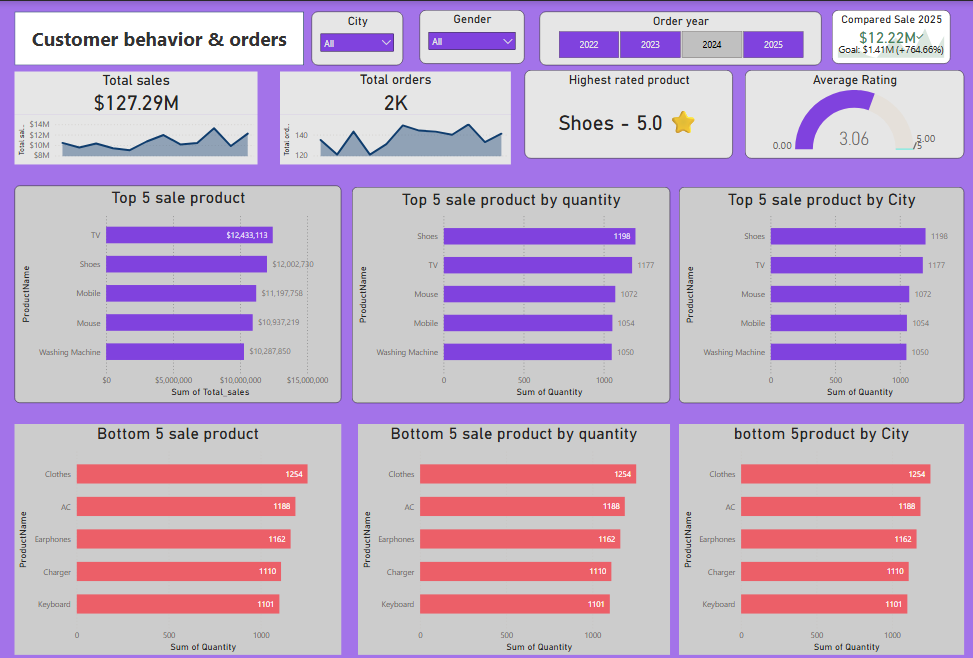

This screenshot's page, from the dashboard's own definition file:
{"tool":"powerbi","page":{"name":"Page 1","canvas":[1280,720],"ordinal":0},"visuals":[{"type":"card","title":"Total sales","fields":{"Values":["orderdetails.Total sales"]},"box":[24.6,141.7,317.5,64.3],"z":0},{"type":"card","title":"Total orders","fields":{"Values":["orderdetails.Total orders"]},"box":[360.9,141.7,279.7,64.3],"z":1000},{"type":"textbox","box":[24.6,0,430.9,109.6],"z":3000},{"type":"barChart","title":"Top 5 sales by ProductName","fields":{"Category":["orderdetails.ProductName"],"Y":["orderdetails.Total sales"]},"box":[963.8,319.4,294.8,381.7],"z":4000},{"type":"donutChart","fields":{"Y":["Sum(orders.OrderAmount)"],"Category":["customers.Gender"]},"box":[355.3,319.4,255.1,381.7],"z":5000},{"type":"slicer","title":"City","fields":{"Values":["customers.City"]},"box":[470.6,13.2,139.8,85],"z":6000},{"type":"slicer","title":"Order year","fields":{"Values":["orders.ORDER_YEAR"]},"box":[791.8,17,275.9,81.3],"z":7000},{"type":"kpi","title":"compared Sale 2025 ","fields":{"Indicator":["orders.sales_2024"],"Goal":["orders.sales_2025"],"TrendLine":["orders.order_month"]},"box":[1077.2,15.1,202.2,83.2],"z":9000},{"type":"areaChart","fields":{"Y":["orderdetails.Total sales"],"Category":["orders.OrderDate.Variation.Date Hierarchy.Month"]},"box":[24.6,206,317.5,98.3],"z":10000},{"type":"lineChart","fields":{"Category":["orders.OrderDate.Variation.Date Hierarchy.Month"],"Y":["orderdetails.Total orders"]},"box":[360.9,202.2,279.7,92.6],"z":11000},{"type":"gauge","title":"Average Rating","fields":{"Y":["rating.Average Rating"],"TargetValue":["rating.rating target"],"MaxValue":["rating.rating max"]},"box":[937.3,145.5,321.3,153.1],"z":12000},{"type":"card","title":"Highest rated product","fields":{"Values":["rating.Highest Rated Product Display"]},"box":[678.4,141.7,224.9,153.1],"z":13000},{"type":"pieChart","fields":{"Category":["orderdetails.ProductName"],"Y":["Sum(orderdetails.Total_sales)"]},"box":[625.5,321.3,332.6,379.8],"z":13001},{"type":"columnChart","fields":{"Category":["orders.ORDER_YEAR"],"Y":["Sum(orderdetails.Quantity)"]},"box":[11.4,322.1,326.9,379],"z":13002},{"type":"slicer","title":"Gender","fields":{"Values":["customers.Gender"]},"box":[625.5,15.1,153.1,83.2],"z":13003}]}

Visuals, with their boxes on the page's 1280x720 design canvas (x1, y1, x2, y2). These are canvas units, not pixel positions in the 973x658 screenshot, which may show the page scaled, cropped or inside an application window:
"Total sales" card: box=[25, 142, 342, 206]
"Total orders" card: box=[361, 142, 641, 206]
textbox: box=[25, 0, 456, 110]
"Top 5 sales by ProductName" barChart: box=[964, 319, 1259, 701]
donutChart - Sum(orders.OrderAmount) x customers.Gender: box=[355, 319, 610, 701]
"City" slicer: box=[471, 13, 610, 98]
"Order year" slicer: box=[792, 17, 1068, 98]
"compared Sale 2025 " kpi: box=[1077, 15, 1279, 98]
areaChart - orderdetails.Total sales x orders.OrderDate.Variation.Date Hierarchy.Month: box=[25, 206, 342, 304]
lineChart - orders.OrderDate.Variation.Date Hierarchy.Month x orderdetails.Total orders: box=[361, 202, 641, 295]
"Average Rating" gauge: box=[937, 146, 1259, 299]
"Highest rated product" card: box=[678, 142, 903, 295]
pieChart - orderdetails.ProductName x Sum(orderdetails.Total_sales): box=[626, 321, 958, 701]
columnChart - orders.ORDER_YEAR x Sum(orderdetails.Quantity): box=[11, 322, 338, 701]
"Gender" slicer: box=[626, 15, 779, 98]
